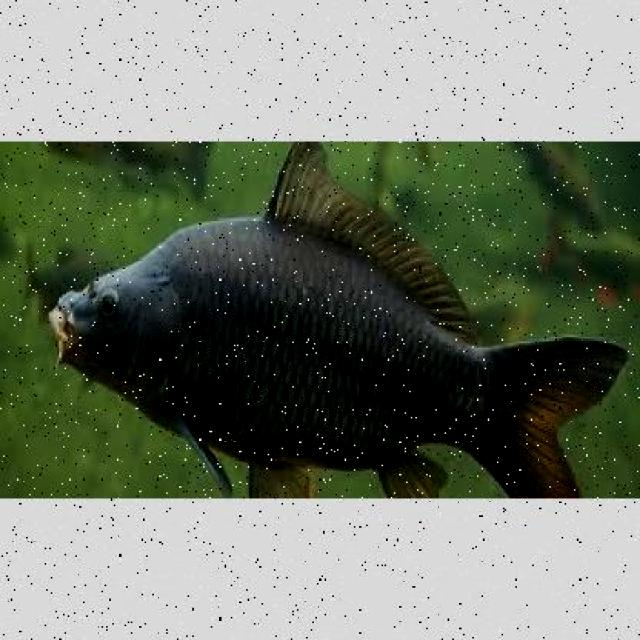ikan-mas: (47, 140, 627, 497)
